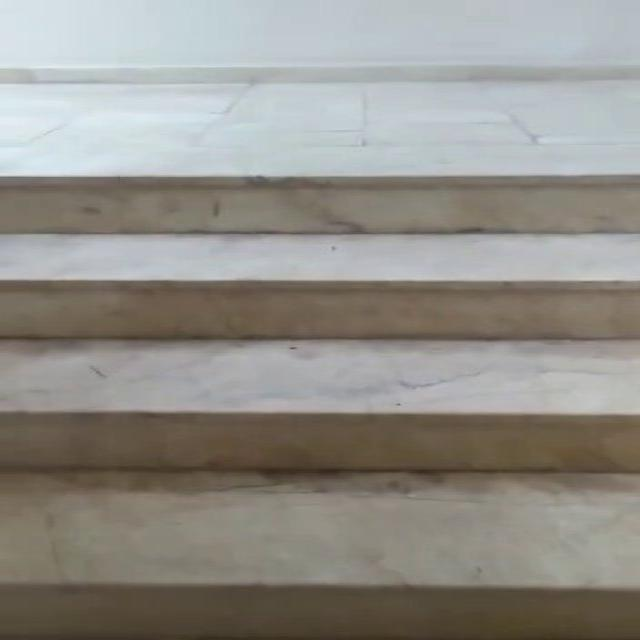stair: (4, 166, 640, 640)
